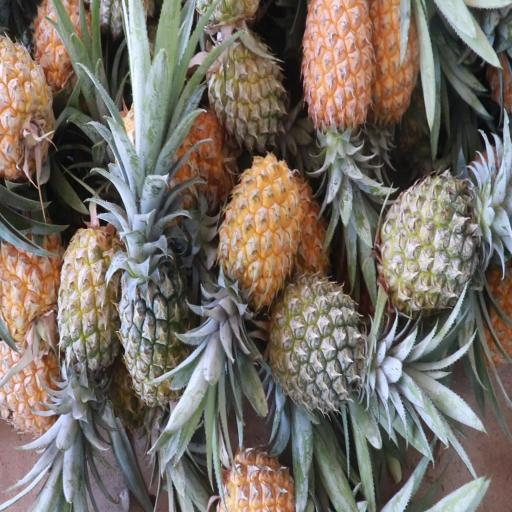------------------------------: (60, 228, 124, 400)
Pineapple - v8 v1: (235, 156, 307, 385), (302, 0, 372, 234), (0, 39, 77, 176), (0, 219, 63, 343), (372, 0, 420, 147), (39, 0, 100, 94), (0, 347, 66, 433)
